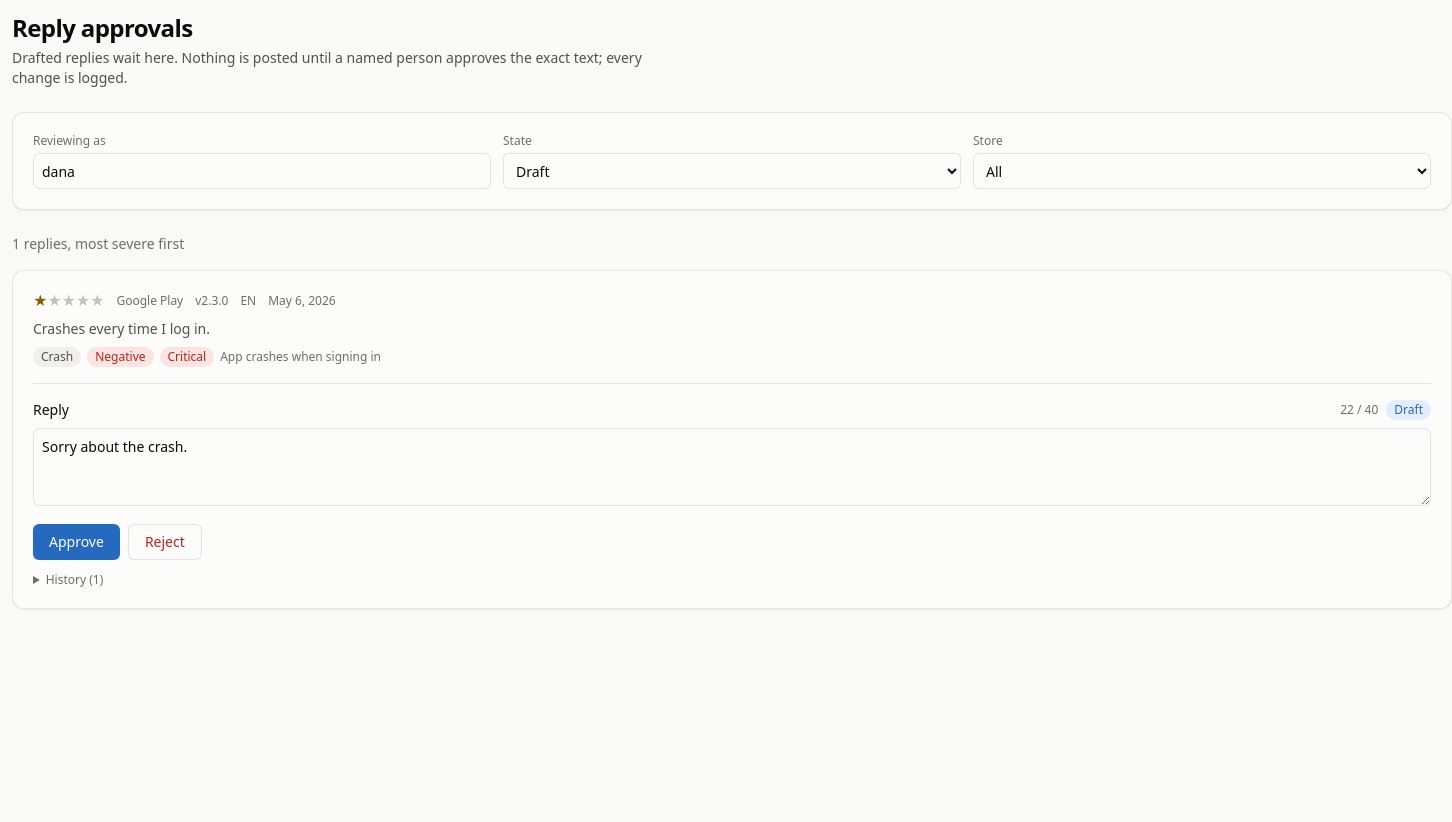
RepliesPage › surfaces API errors from a rejected command
Step 1. Click the button "Reject" → (165,542), box 128,524 -> 202,560
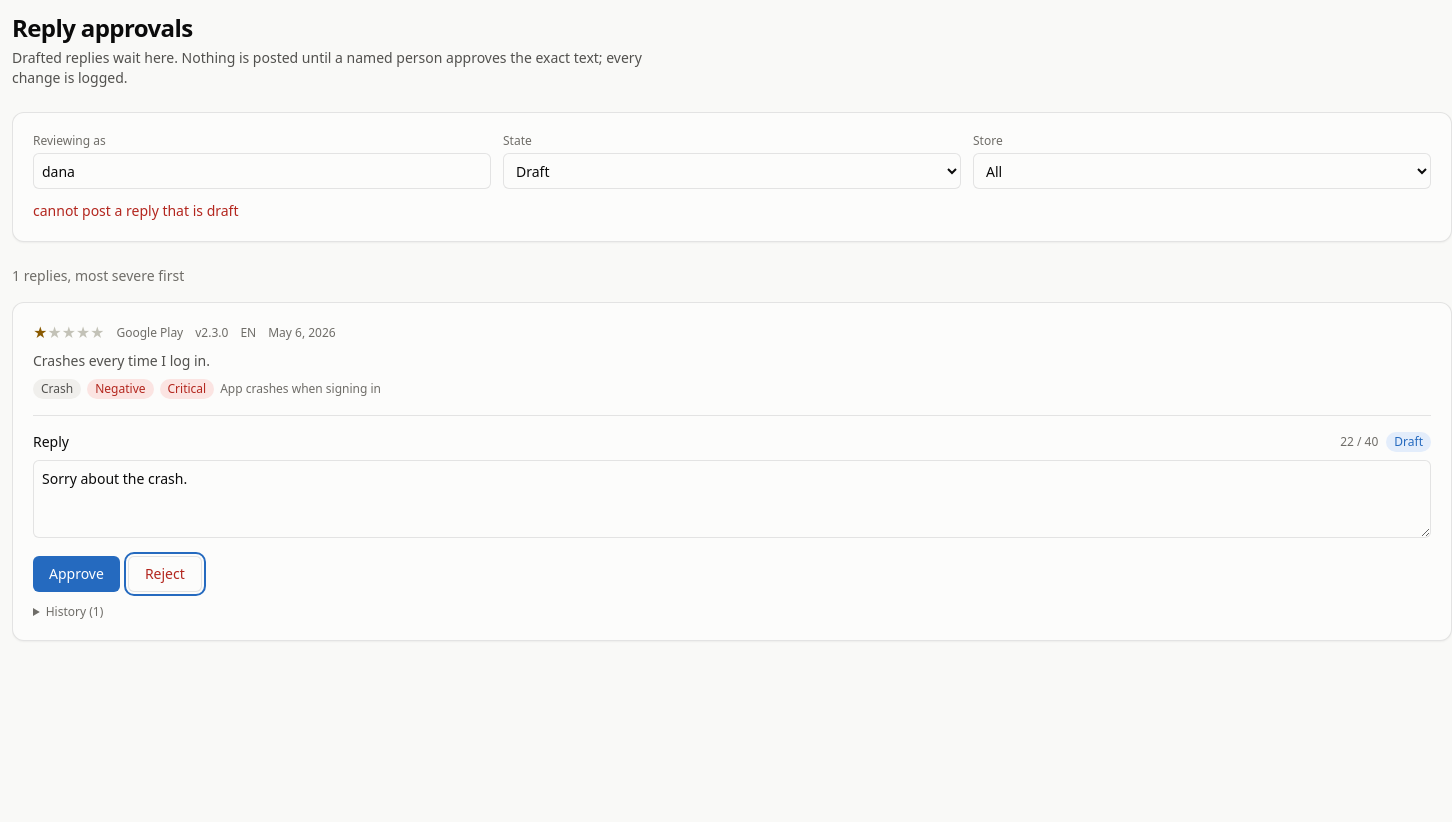
Now the message reads "cannot post a reply that is draft", box 33,201 -> 238,220
